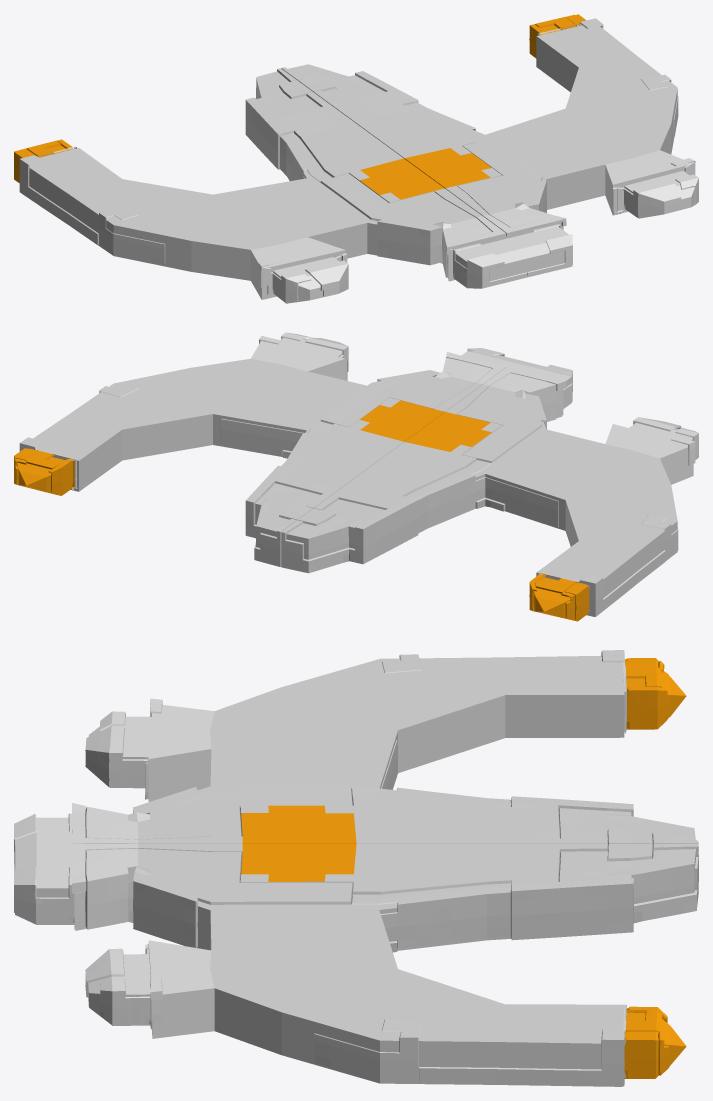
The model's file is ship model TEXTURED.fbx.
3 renders of one model, top to bottom at view 1: azimuth 30°, elevation 25°; view 2: azimuth 150°, elevation 25°; view 3: azimuth 270°, elevation 25°, orthographic. The views are drawn at different scales.
Parts seen in each view (by area): view 1: Cube; view 2: Cube; view 3: Cube.
Part boxes in pixels (bbox=[...]): Cube: bbox=[14, 14, 698, 303]; Cube: bbox=[14, 332, 698, 621]; Cube: bbox=[14, 650, 698, 1086].
Size of the model in its own units: 1295 by 88.61 by 961.
